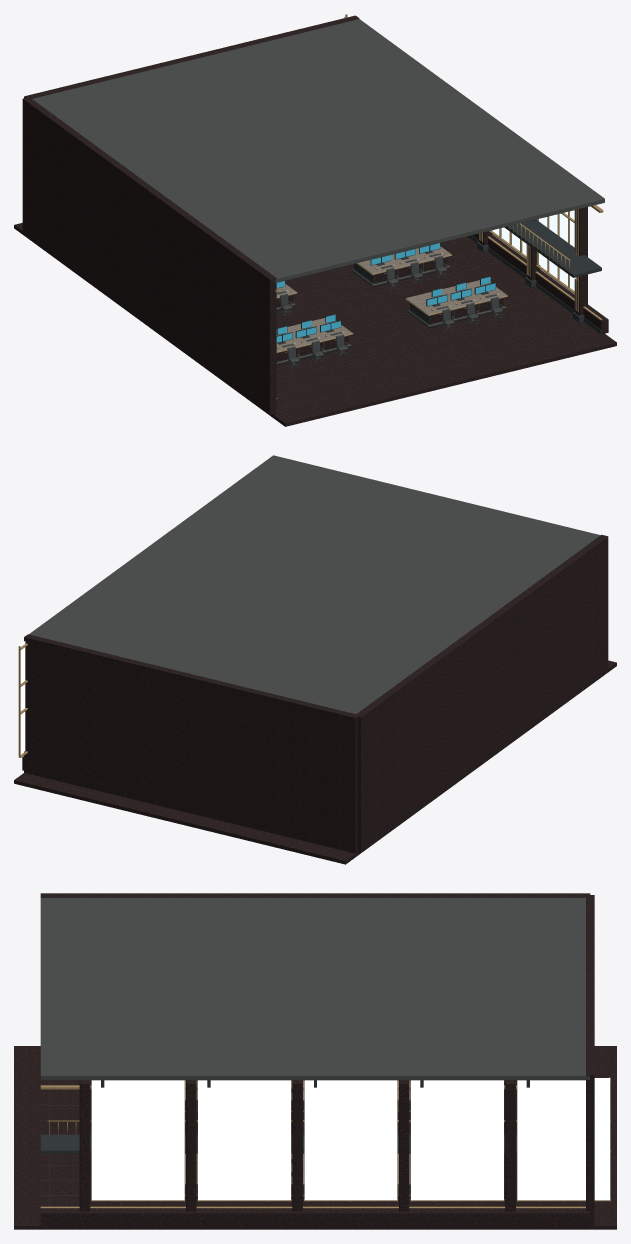
The model's file is trading-hall.glb.
The picture shows the model from 3 angles, top to bottom: view 1: azimuth 30°, elevation 25°; view 2: azimuth 150°, elevation 25°; view 3: azimuth 270°, elevation 25°; orthographic projection. The views are drawn at different scales.
Visible parts, largest first — view 1: TH_Ceiling.005, TH_WallStone_PBR.002, TH_StoneFloor_PBR.002, TH_DarkMetal.004, TH_Walnut_PBR.002, TH_Bronze.004, TH_MarketScreens.004, TH_Leather.004, TH_WindowLight.004, TH_ScreenBezel.004; view 2: TH_WallStone_PBR.002, TH_Ceiling.005, TH_StoneFloor_PBR.002, TH_WindowLight.004; view 3: TH_Ceiling.005, TH_WindowLight.004, TH_WallStone_PBR.002, TH_StoneFloor_PBR.002, TH_Bronze.004, TH_DarkMetal.004, TH_Walnut_PBR.002.
Part boxes in pixels (x1,y1,x2,y2): TH_Ceiling.005: [32, 19, 604, 282]; TH_WallStone_PBR.002: [22, 15, 608, 415]; TH_StoneFloor_PBR.002: [14, 223, 616, 426]; TH_DarkMetal.004: [276, 220, 601, 413]; TH_Walnut_PBR.002: [276, 246, 507, 351]; TH_Bronze.004: [275, 14, 603, 398]; TH_MarketScreens.004: [276, 243, 495, 342]; TH_Leather.004: [280, 253, 503, 362]; TH_WindowLight.004: [347, 14, 574, 290]; TH_ScreenBezel.004: [276, 243, 495, 342]; TH_WallStone_PBR.002: [22, 534, 608, 853]; TH_Ceiling.005: [29, 455, 600, 713]; TH_StoneFloor_PBR.002: [14, 660, 616, 864]; TH_WindowLight.004: [18, 641, 25, 755]; TH_Ceiling.005: [40, 897, 589, 1080]; TH_WindowLight.004: [91, 1078, 610, 1200]; TH_WallStone_PBR.002: [40, 893, 594, 1227]; TH_StoneFloor_PBR.002: [14, 1046, 616, 1229]; TH_Bronze.004: [40, 1077, 610, 1208]; TH_DarkMetal.004: [40, 1080, 581, 1208]; TH_Walnut_PBR.002: [185, 1080, 410, 1183].
Bounding box in the file's own units: 24.52 × 9.64 × 34.
14 materials, 3 textured.
